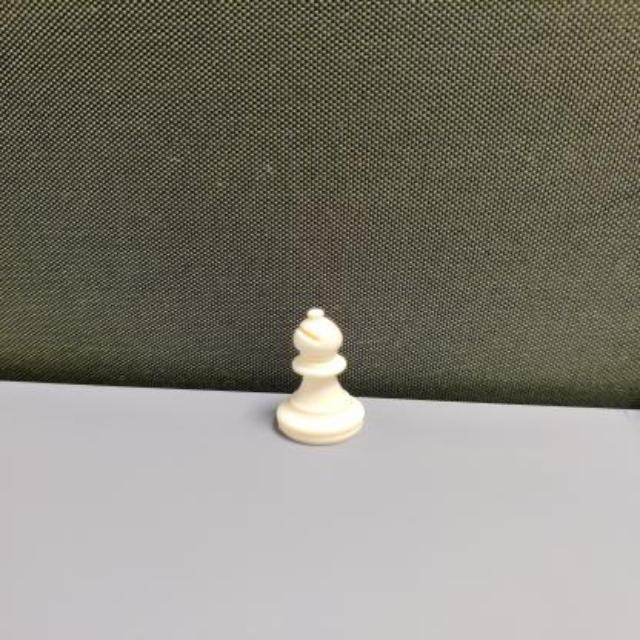white-bishop: (272, 307, 367, 447)
